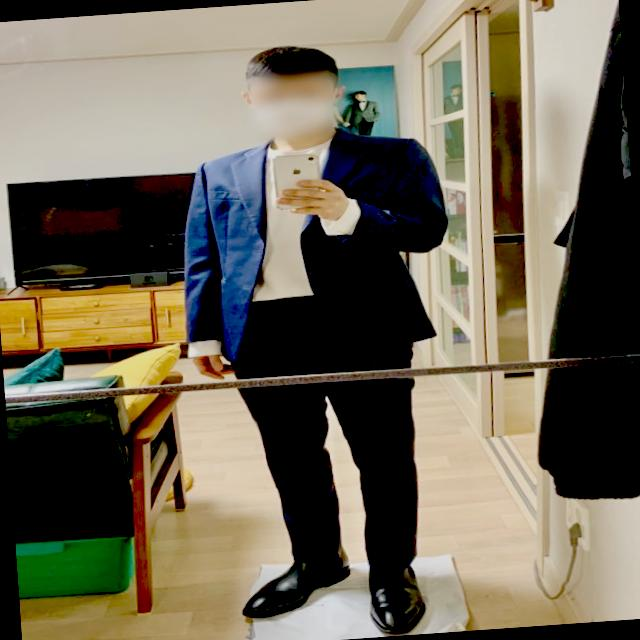blazer: (170, 116, 457, 366)
slacks: (226, 285, 434, 581)
